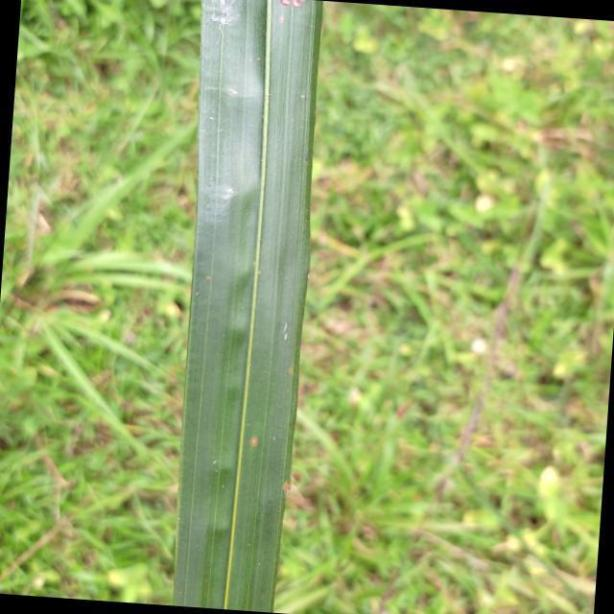Boron: (172, 0, 324, 614)
